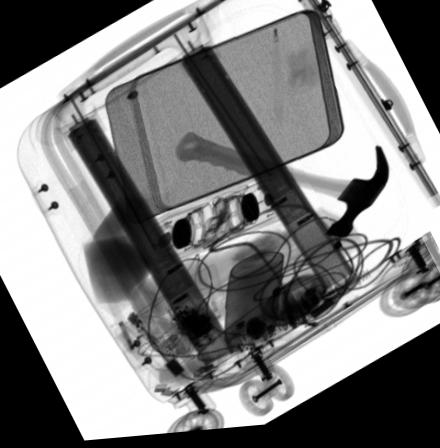Hammer: (172, 133, 390, 243)
